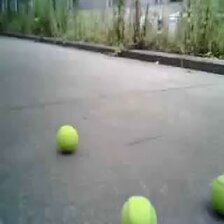tennis: (119, 196, 159, 224), (57, 126, 79, 151), (211, 173, 224, 212)
